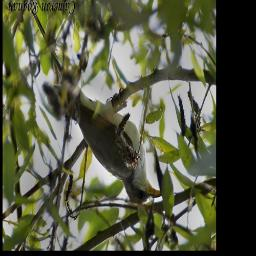Cuckoo: (32, 10, 163, 206)
